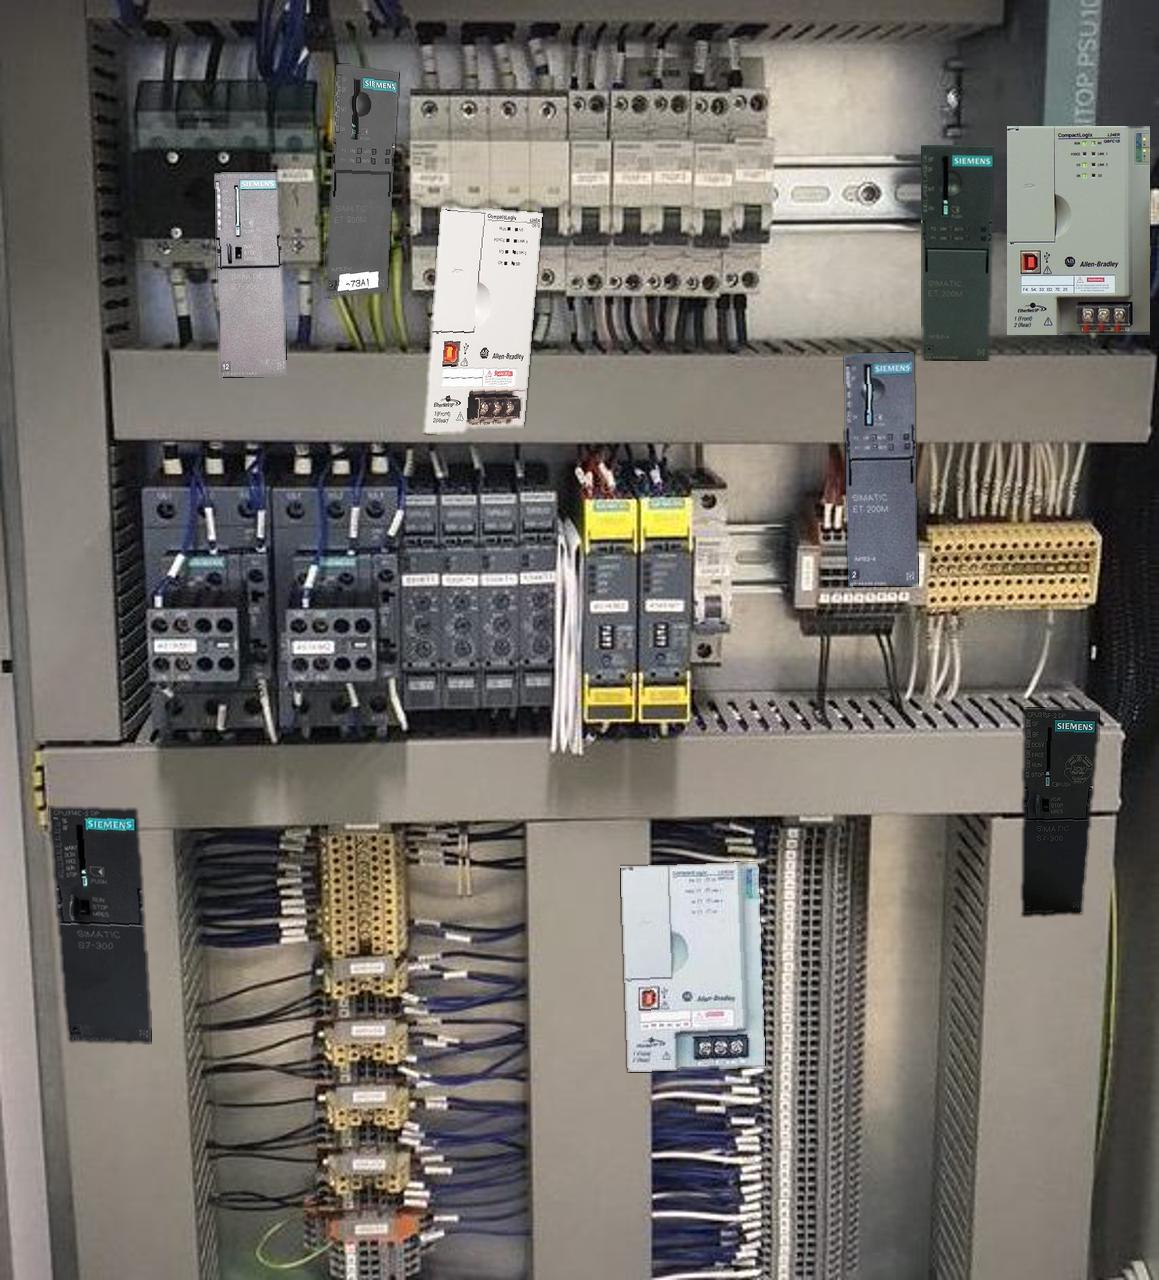AllenBradley: (620, 862, 765, 1071), (1007, 126, 1149, 334), (424, 207, 542, 433)
Siemens: (49, 807, 149, 1043), (1022, 708, 1099, 915), (214, 172, 286, 377)
